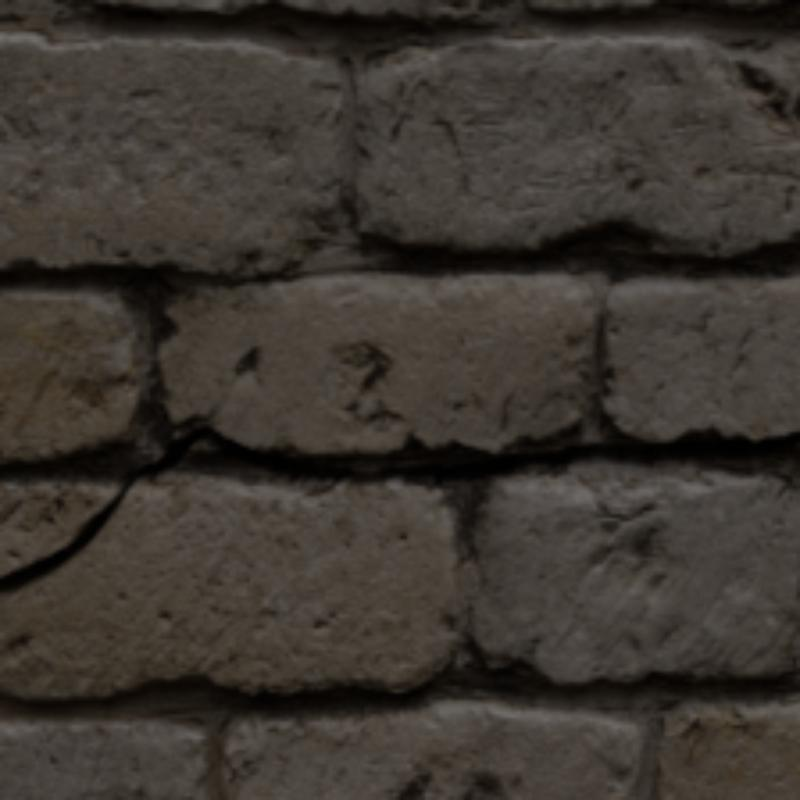crack: (0, 425, 796, 593)
